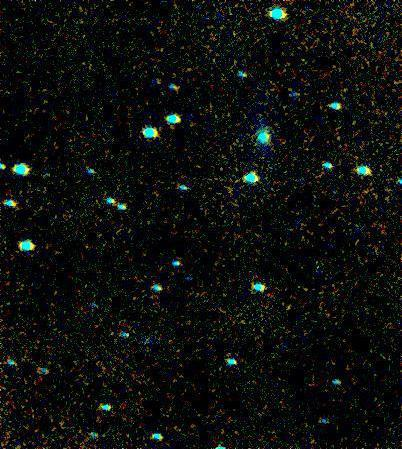star: (269, 333, 299, 363)
